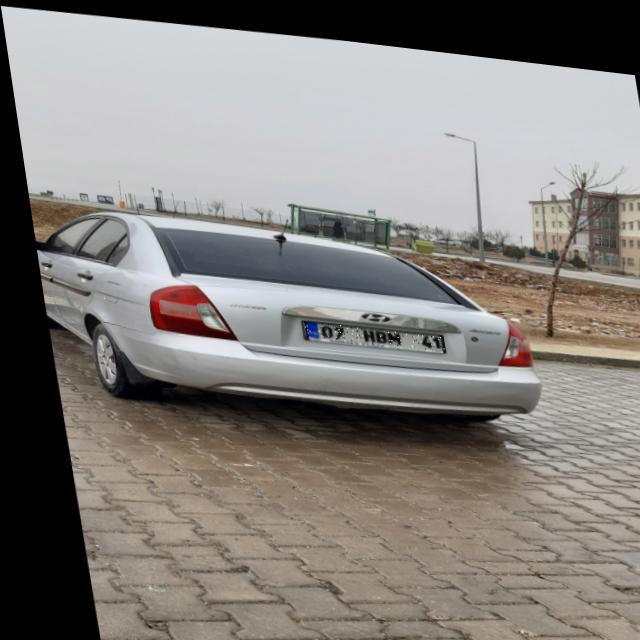license_plate: (294, 312, 436, 343)
